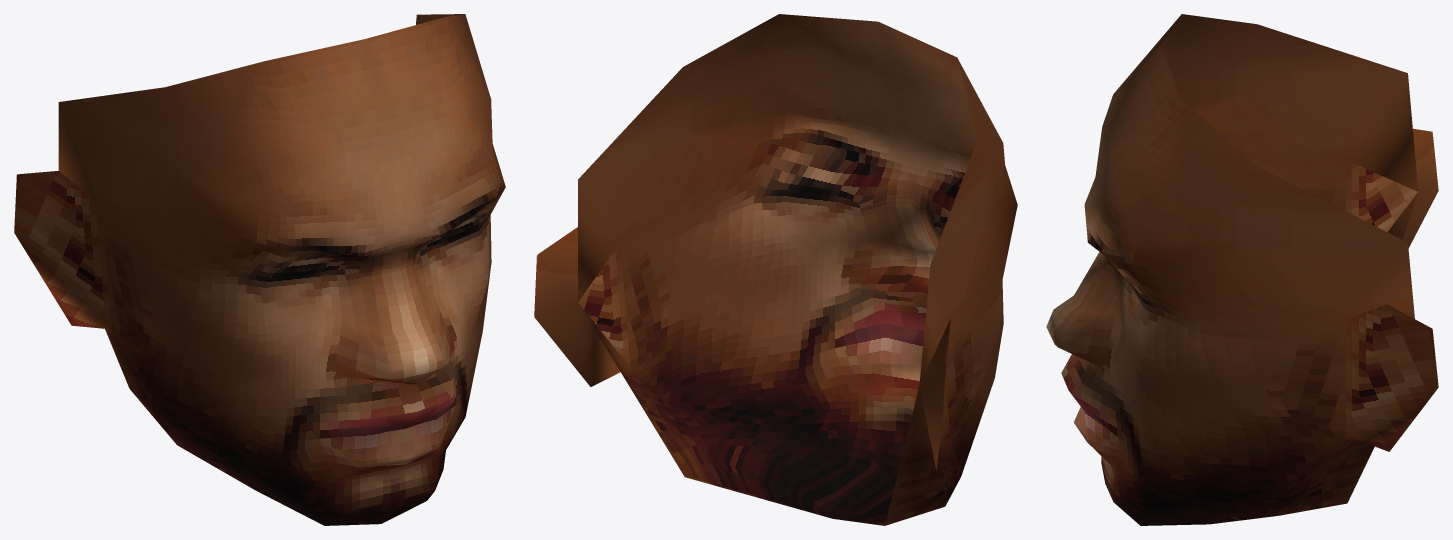
The picture shows the model from 3 angles, left to right: view 1: azimuth 30°, elevation 25°; view 2: azimuth 150°, elevation 25°; view 3: azimuth 270°, elevation 25°; orthographic projection. The views are drawn at different scales.
Visible parts, largest first — view 1: editpl_m-0000-130, editpl_m-0000-129; view 2: editpl_m-0000-130, editpl_m-0000-129; view 3: editpl_m-0000-130, editpl_m-0000-129.
Part boxes in pixels (x1,y1,x2,y2): editpl_m-0000-130: [14, 14, 505, 461]; editpl_m-0000-129: [112, 330, 465, 525]; editpl_m-0000-130: [534, 14, 1017, 525]; editpl_m-0000-129: [630, 245, 994, 525]; editpl_m-0000-130: [1053, 14, 1438, 503]; editpl_m-0000-129: [1046, 310, 1346, 525].
Size of the model in its own units: 17.18 by 18.64 by 14.46.
1 material, 1 textured.
